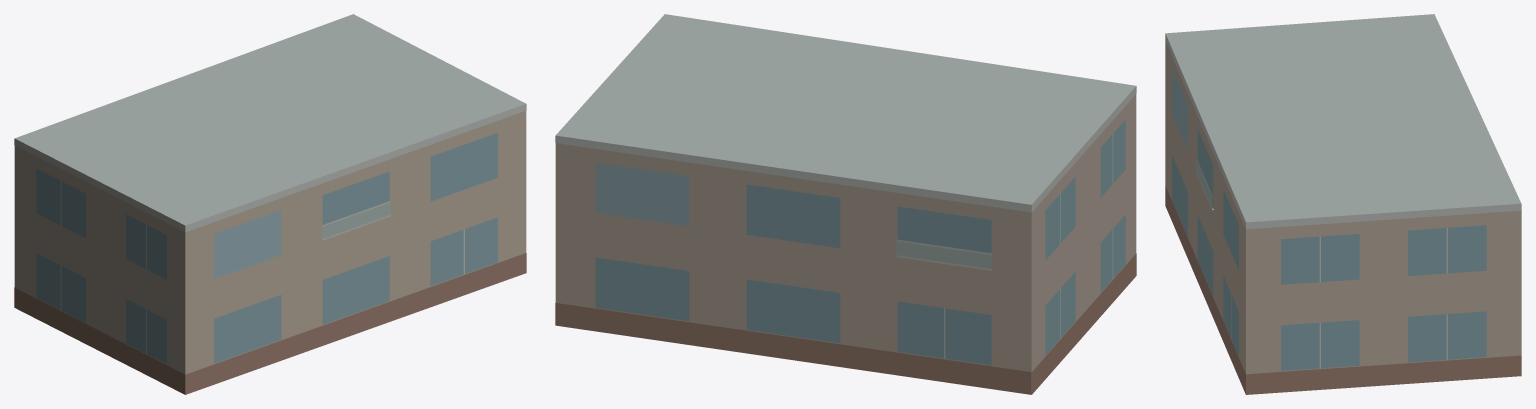
The model's file is survey-upis-32849423.glb.
The picture shows the model from 3 angles, left to right: view 1: azimuth 30°, elevation 25°; view 2: azimuth 150°, elevation 25°; view 3: azimuth 270°, elevation 25°; orthographic projection. The views are drawn at different scales.
Parts seen in each view (by area): view 1: survey-upis-32849423.tmp; view 2: survey-upis-32849423.tmp; view 3: survey-upis-32849423.tmp.
Boxes of the visible parts, x1,y1,x2,y2 form: survey-upis-32849423.tmp: [14, 14, 526, 394]; survey-upis-32849423.tmp: [555, 14, 1136, 394]; survey-upis-32849423.tmp: [1165, 14, 1521, 394].
Size of the model in its own units: 15.83 by 6.1 by 11.43.
